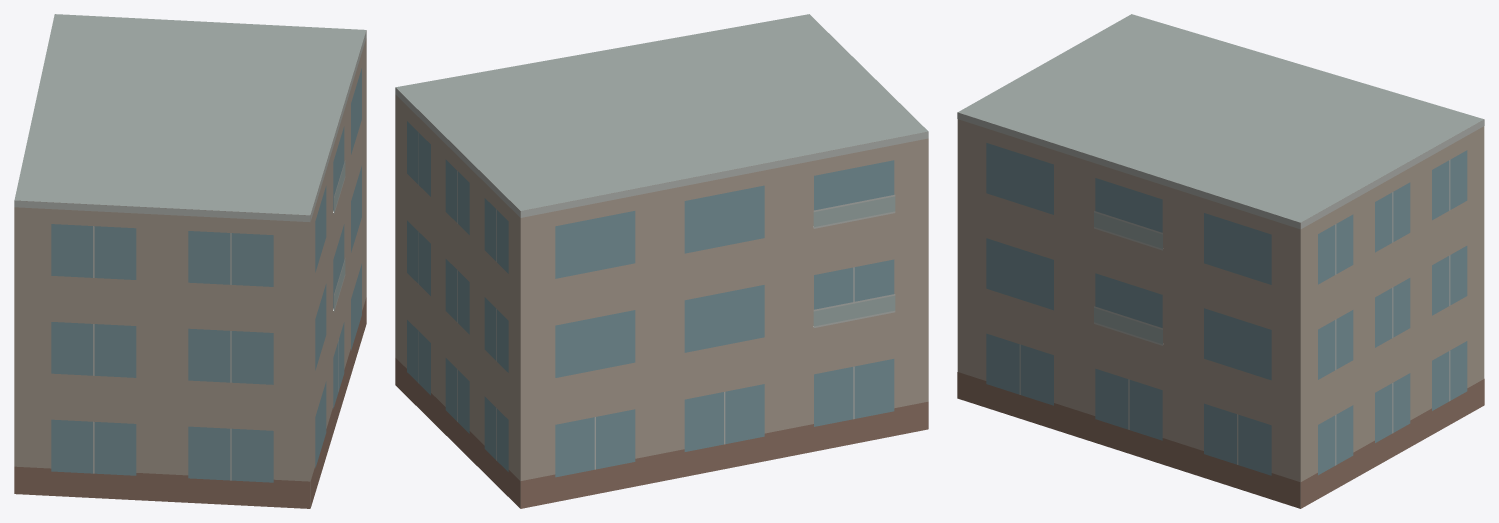
The model's file is survey-upis-32620831.glb.
3 renders of one model, left to right at view 1: azimuth 30°, elevation 25°; view 2: azimuth 150°, elevation 25°; view 3: azimuth 270°, elevation 25°, orthographic. The views are drawn at different scales.
Parts seen in each view (by area): view 1: survey-upis-32620831.tmp; view 2: survey-upis-32620831.tmp; view 3: survey-upis-32620831.tmp.
Part boxes in pixels (bbox=[...]): survey-upis-32620831.tmp: bbox=[14, 14, 366, 508]; survey-upis-32620831.tmp: bbox=[395, 14, 928, 508]; survey-upis-32620831.tmp: bbox=[957, 14, 1484, 508].
Bounding box in the file's own units: 16.44 × 10.5 × 17.53.
